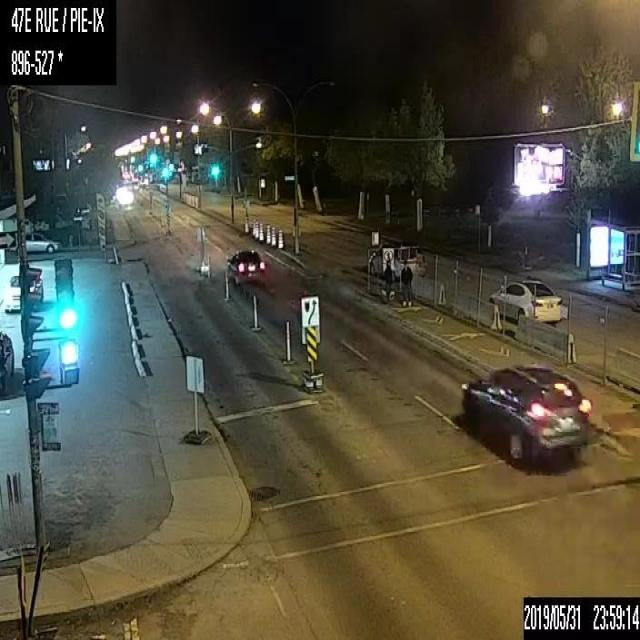construction: (284, 318, 290, 362), (252, 291, 257, 329), (265, 223, 270, 243), (258, 221, 263, 241), (243, 215, 248, 235), (278, 229, 283, 248), (225, 268, 228, 297), (271, 225, 275, 245), (252, 217, 256, 236), (254, 220, 258, 239)
pedestrian: (400, 260, 411, 305), (384, 258, 392, 298)
vehicle: (460, 357, 594, 467), (485, 273, 567, 327), (367, 238, 417, 276), (222, 247, 266, 288), (4, 270, 42, 314), (0, 328, 13, 392), (25, 228, 58, 253)
